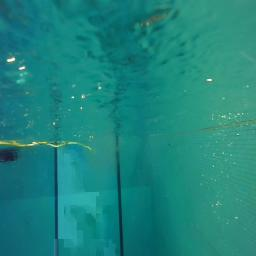Side: (0, 147, 22, 164)
